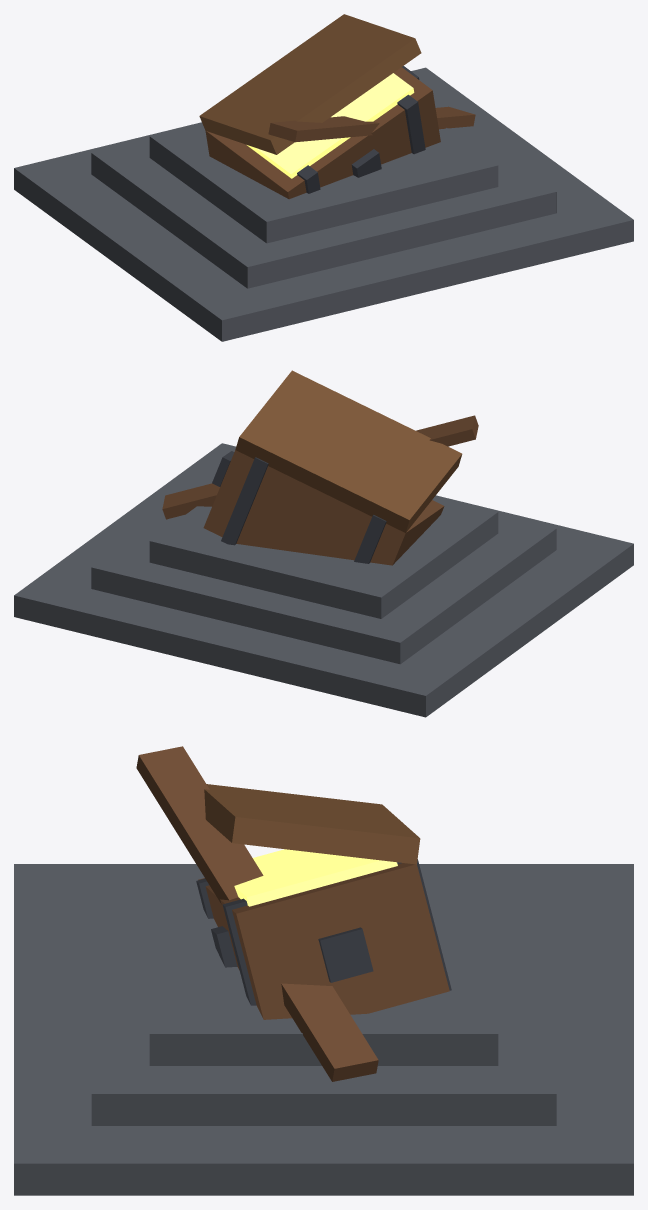
File: CACHE_WRECKS.glb
3 renders of one model, top to bottom at view 1: azimuth 30°, elevation 25°; view 2: azimuth 150°, elevation 25°; view 3: azimuth 270°, elevation 25°, orthographic. The views are drawn at different scales.
Visible parts, largest first — view 1: CACHE_WRECKS_Main, CACHE_WRECKS_Lid, CACHE_WRECKS_Accent, CACHE_WRECKS_Glow, CACHE_WRECKS_Trim; view 2: CACHE_WRECKS_Main, CACHE_WRECKS_Lid, CACHE_WRECKS_Accent, CACHE_WRECKS_Trim; view 3: CACHE_WRECKS_Main, CACHE_WRECKS_Accent, CACHE_WRECKS_Lid, CACHE_WRECKS_Glow, CACHE_WRECKS_Trim.
Part boxes in pixels (x1,y1,x2,y2): CACHE_WRECKS_Main: (14,67,633,341); CACHE_WRECKS_Lid: (199,14,421,154); CACHE_WRECKS_Accent: (205,67,475,199); CACHE_WRECKS_Glow: (247,73,414,178); CACHE_WRECKS_Trim: (297,66,425,193); CACHE_WRECKS_Main: (14,443,633,717); CACHE_WRECKS_Lid: (235,370,462,532); CACHE_WRECKS_Accent: (162,415,478,565); CACHE_WRECKS_Trim: (212,451,386,563); CACHE_WRECKS_Main: (14,864,633,1195); CACHE_WRECKS_Accent: (136,746,449,1081); CACHE_WRECKS_Lid: (204,784,420,864); CACHE_WRECKS_Glow: (234,849,397,906); CACHE_WRECKS_Trim: (196,859,451,1005).
Size of the model in its own units: 3.2 by 1.38 by 2.8.
